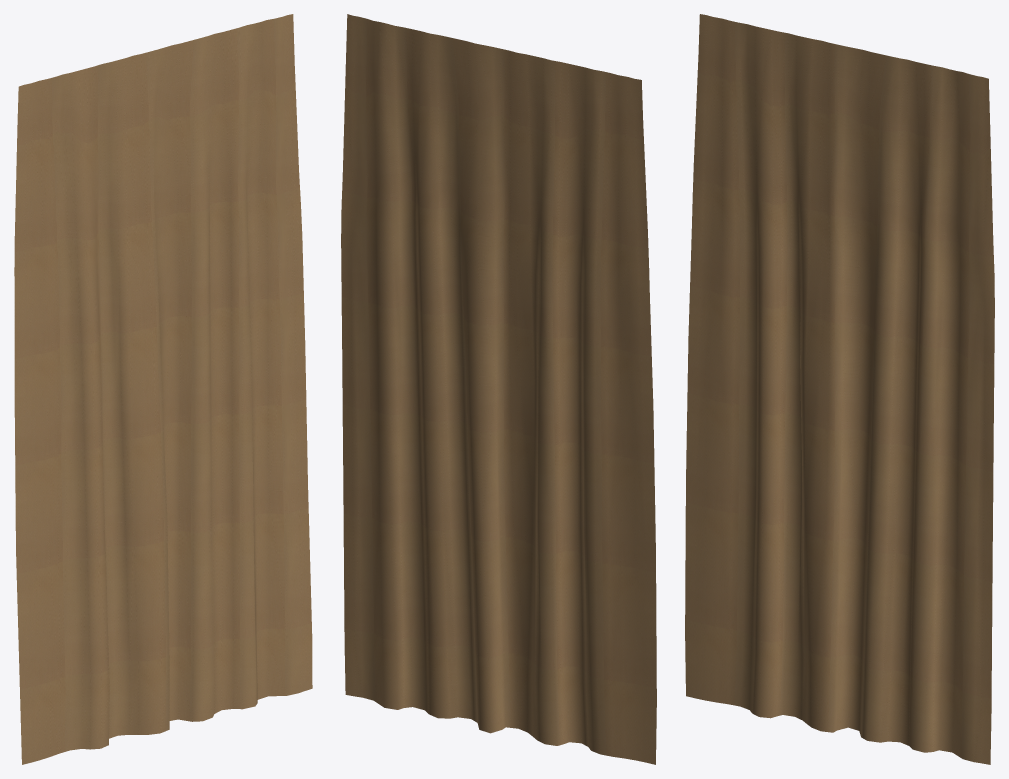
The model's file is curtain_01.gltf.
The picture shows the model from 3 angles, left to right: view 1: azimuth 30°, elevation 25°; view 2: azimuth 150°, elevation 25°; view 3: azimuth 330°, elevation 25°; orthographic projection. The views are drawn at different scales.
Parts seen in each view (by area): view 1: curtain_01; view 2: curtain_01; view 3: curtain_01.
Boxes of the visible parts, x1=… form: curtain_01: x1=14, y1=14, x2=312, y2=764; curtain_01: x1=341, y1=14, x2=656, y2=764; curtain_01: x1=685, y1=14, x2=994, y2=764.
Bounding box in the file's own units: 1.62 × 3.48 × 0.1812.
Materials: 1 (1 with a texture image).
